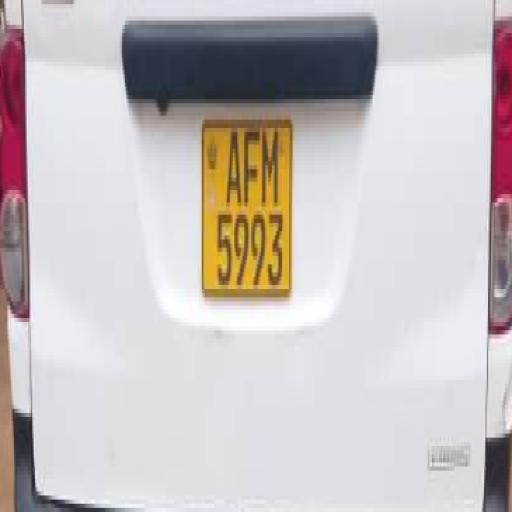number-plates: (202, 126, 287, 287)
